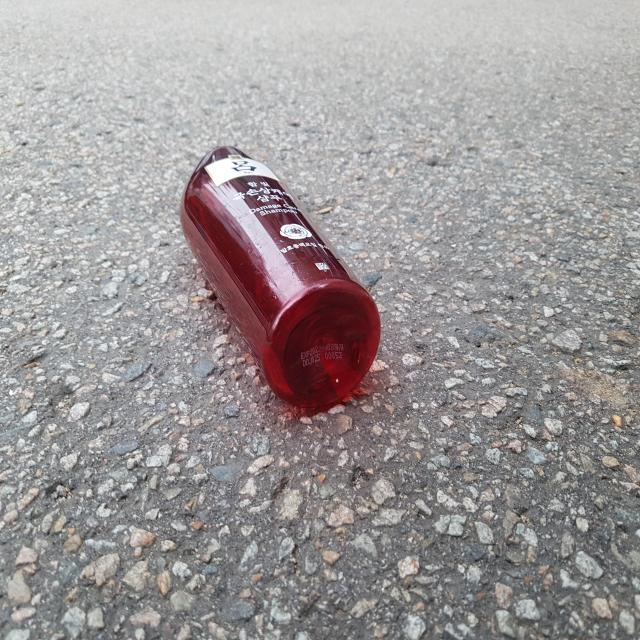bottle: (162, 134, 387, 430)
